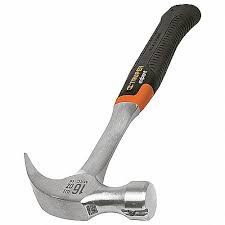martillu: (7, 2, 208, 223)
